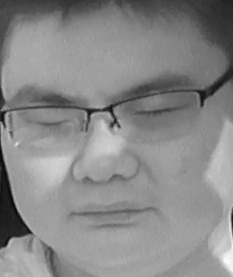blink: (132, 104, 176, 121), (33, 115, 64, 130)
glass: (109, 89, 202, 143), (5, 104, 91, 153)
mouth: (70, 194, 153, 229)
